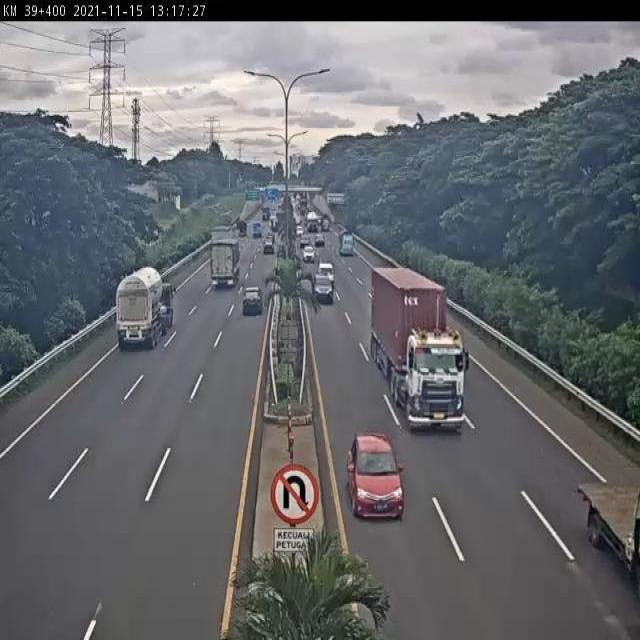bus-s-: (315, 259, 336, 285)
car: (340, 424, 406, 523), (241, 284, 264, 317), (312, 271, 333, 304)
truck-l-: (112, 268, 177, 356)
truck-m-: (206, 235, 244, 289)
truck-s-: (575, 478, 638, 614)
truck-xl-: (365, 264, 475, 441)
